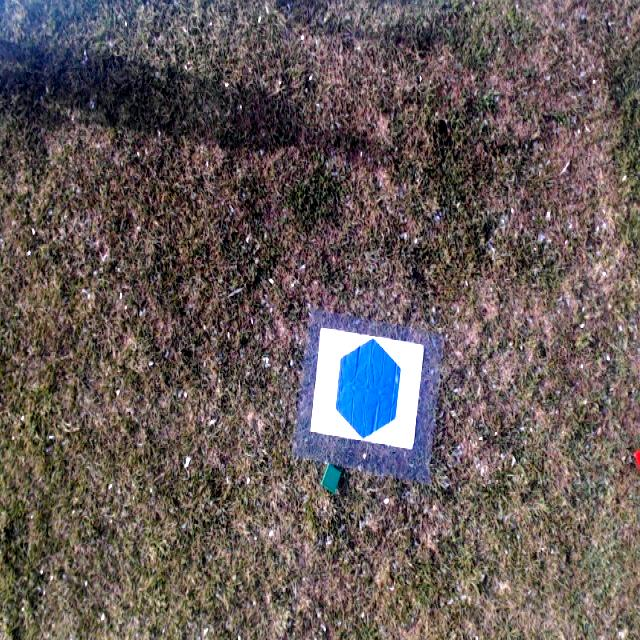blue_hexagon: (336, 336, 400, 441)
